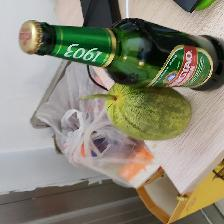gua: (102, 86, 189, 133)
